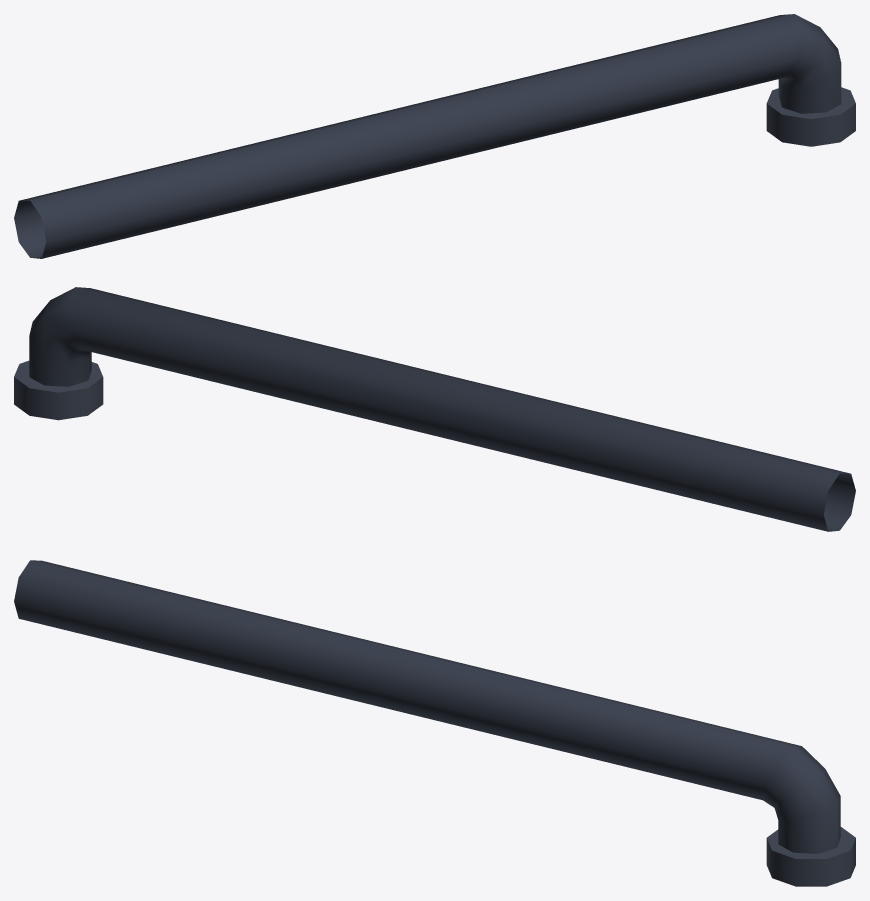
The model's file is Pipe_1_F_2_3.fbx.
3 renders of one model, top to bottom at view 1: azimuth 30°, elevation 25°; view 2: azimuth 150°, elevation 25°; view 3: azimuth 330°, elevation 25°, orthographic.
Parts seen in each view (by area): view 1: Pipe_1_F_2_3; view 2: Pipe_1_F_2_3; view 3: Pipe_1_F_2_3.
Part boxes in pixels (bbox=[...]): Pipe_1_F_2_3: bbox=[14, 14, 855, 258]; Pipe_1_F_2_3: bbox=[14, 287, 855, 531]; Pipe_1_F_2_3: bbox=[14, 560, 855, 886].
Size of the model in its own units: 320 by 43.92 by 30.12.
